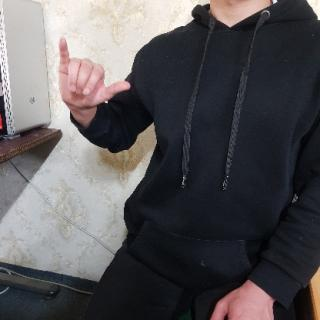YA: (56, 35, 138, 117)
